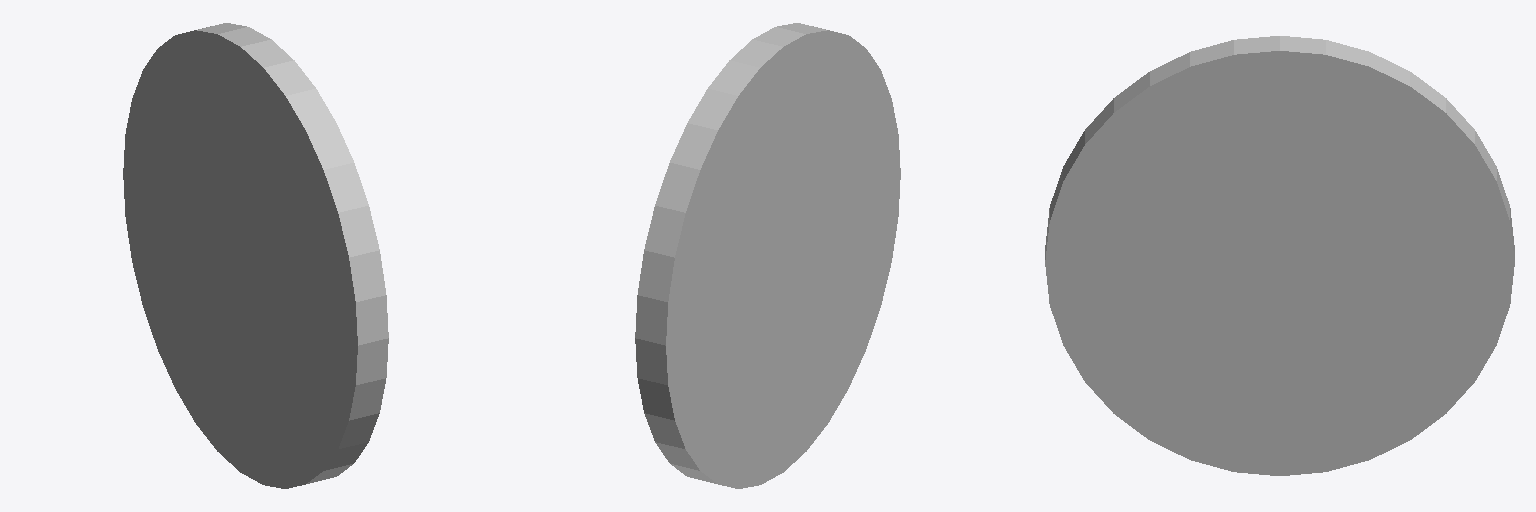
Rendered from target.obj.
3 views of the same model, side by side, from view 1: azimuth 30°, elevation 25°; view 2: azimuth 150°, elevation 25°; view 3: azimuth 270°, elevation 25° (orthographic).
Parts seen in each view (by area): view 1: target_Cylinder; view 2: target_Cylinder; view 3: target_Cylinder.
Part boxes in pixels (left/top/right/bottom): target_Cylinder: left=123, top=23, right=388, bottom=488; target_Cylinder: left=635, top=23, right=900, bottom=488; target_Cylinder: left=1045, top=36, right=1514, bottom=475.
Size of the model in its own units: 0.1515 by 2 by 2.